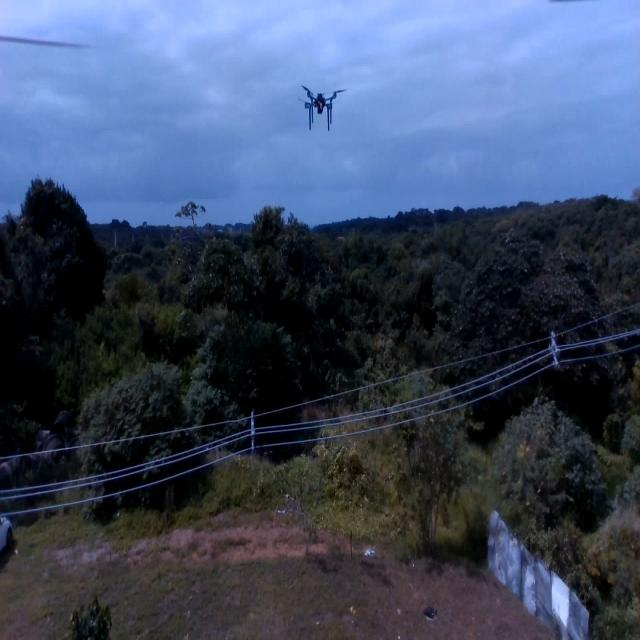-uav-: (295, 68, 351, 135)
